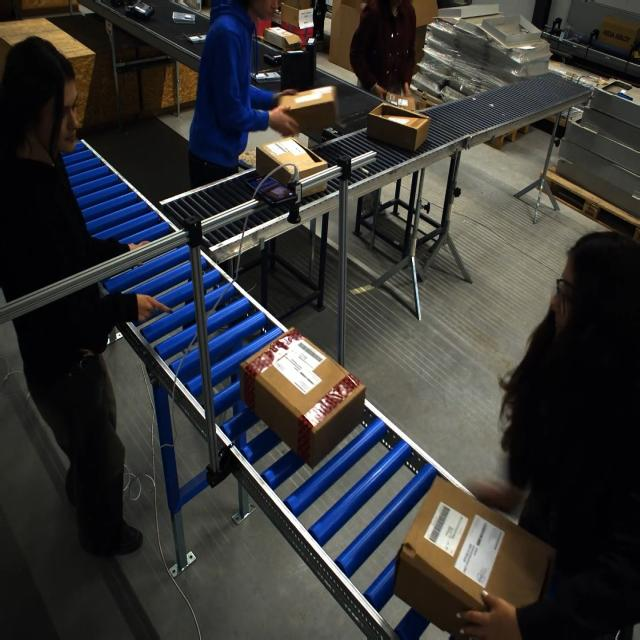box: (396, 475, 553, 635), (239, 325, 359, 463), (256, 136, 326, 196), (366, 102, 428, 152), (278, 86, 336, 135)
product: (168, 3, 196, 29), (126, 1, 155, 20), (251, 70, 280, 82), (183, 32, 209, 43), (263, 52, 282, 66)
